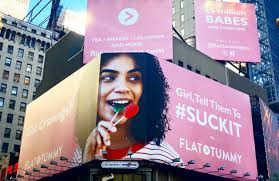poster: (92, 49, 262, 181)
